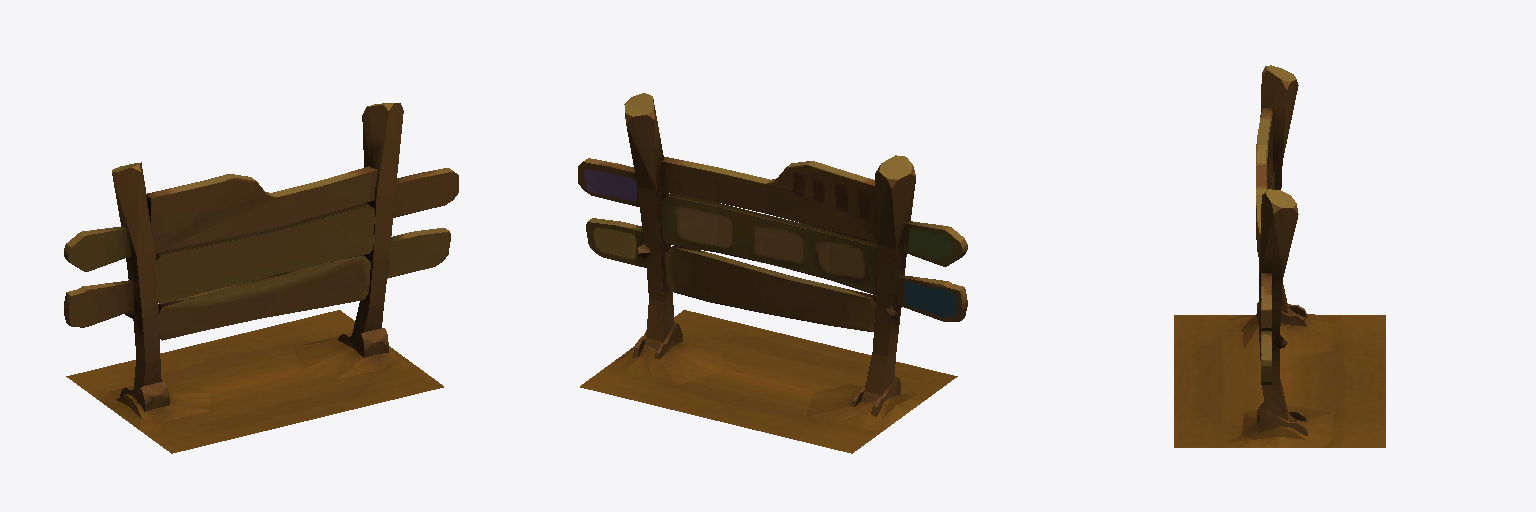
The picture shows the model from 3 angles: view 1: azimuth 30°, elevation 25°; view 2: azimuth 150°, elevation 25°; view 3: azimuth 270°, elevation 25°; orthographic projection.
Parts seen in each view (by area): view 1: OBJ_Bulletin_02; view 2: OBJ_Bulletin_02; view 3: OBJ_Bulletin_02.
Boxes of the visible parts, x1,y1,x2,y2 form: OBJ_Bulletin_02: [64, 103, 458, 453]; OBJ_Bulletin_02: [578, 93, 967, 453]; OBJ_Bulletin_02: [1174, 65, 1385, 447].
Bounding box in the file's own units: 5.07 × 3.16 × 2.4.
1 materials, 1 textured.